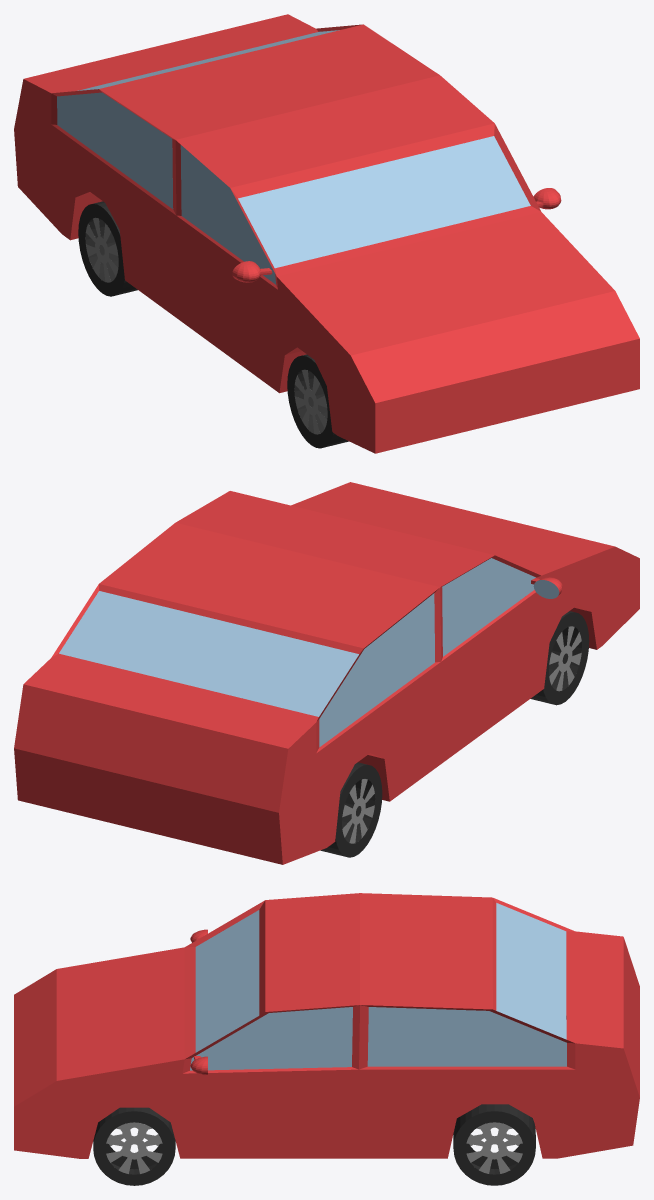
Rendered from Macchina1_ruoteseparate.fbx.
3 views of the same model, one above another, from view 1: azimuth 30°, elevation 25°; view 2: azimuth 150°, elevation 25°; view 3: azimuth 270°, elevation 25° (orthographic). The views are drawn at different scales.
Parts seen in each view (by area): view 1: Telaio, BR, FR; view 2: Telaio, BR, FR; view 3: Telaio, BL, FL.
Part boxes in pixels (<box>): Telaio: <box>14,14,639,453</box>; BR: <box>78,201,137,296</box>; FR: <box>287,354,348,448</box>; Telaio: <box>14,482,639,864</box>; BR: <box>320,762,382,857</box>; FR: <box>530,611,589,705</box>; Telaio: <box>14,893,639,1158</box>; BL: <box>453,1104,535,1185</box>; FL: <box>93,1107,175,1185</box>.
Bounding box in the file's own units: 217 × 134 × 416.
